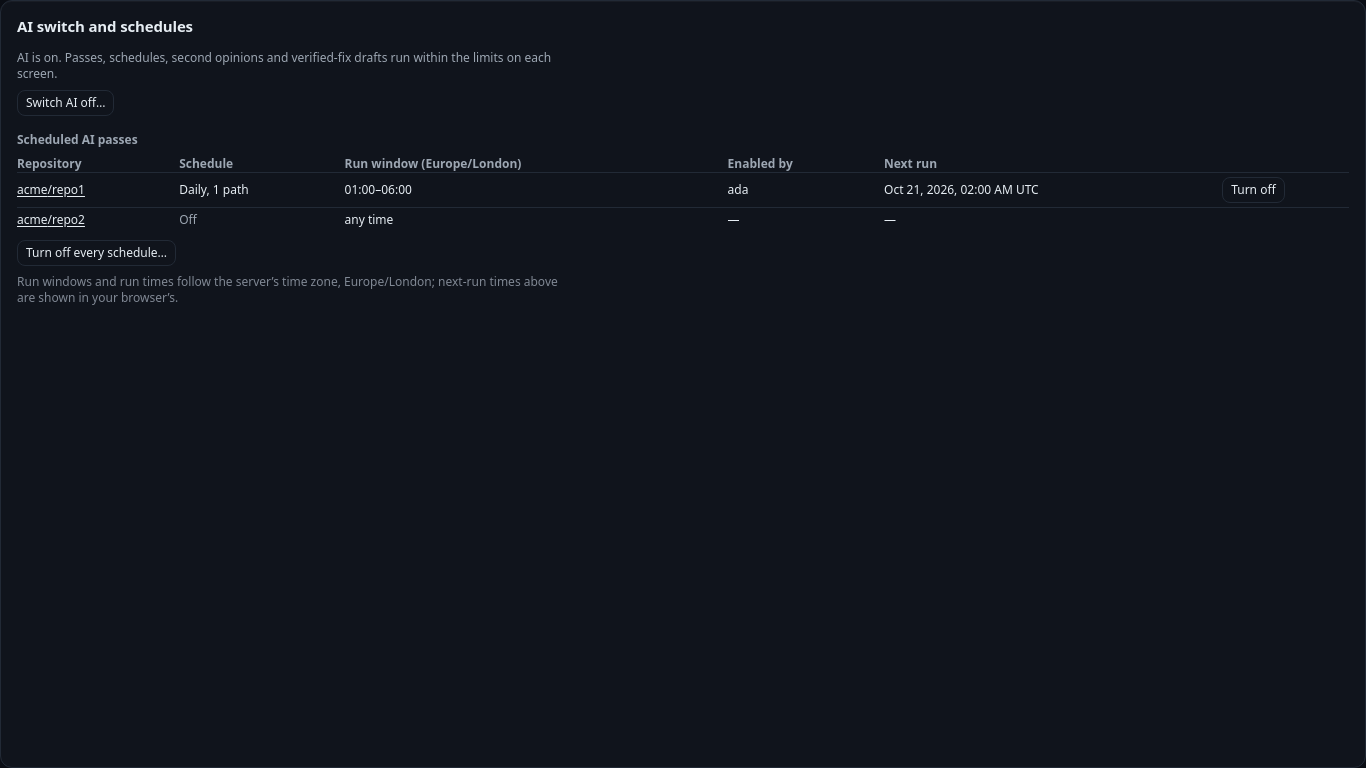
Test: AiControls › lists every schedule with its window in the server zone, and turns one or all off
Later steps or results of the test are not shown.
Expected: the column heading "Run window (Europe/London)" is shown, [344,156,728,172]
Expected: the row with test id "ai-schedule-1" shows "01:00–06:00", [344,180,412,198]
Click the button with test id "ai-schedule-disable-1".
click(1253, 190)  # box [1222,176,1285,202]
Click the button with test id "ai-schedules-disable-all".
click(97, 252)  # box [17,240,176,266]
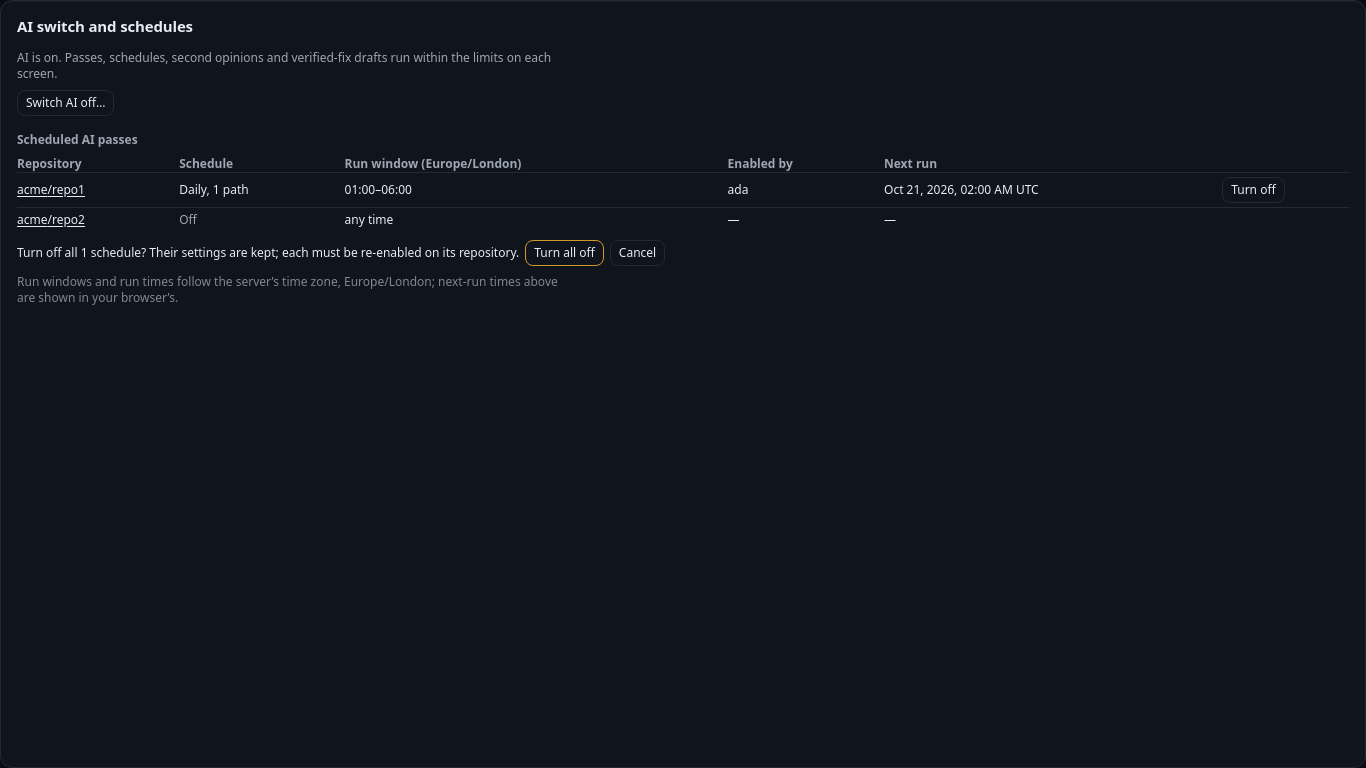
Expected: the element with test id "ai-schedules-confirm" shows "Turn off all 1 schedule?", [17,240,665,266]
